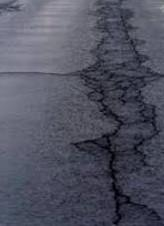alligator-crack: (71, 0, 164, 226), (0, 0, 24, 17)
crack: (0, 67, 78, 80)
